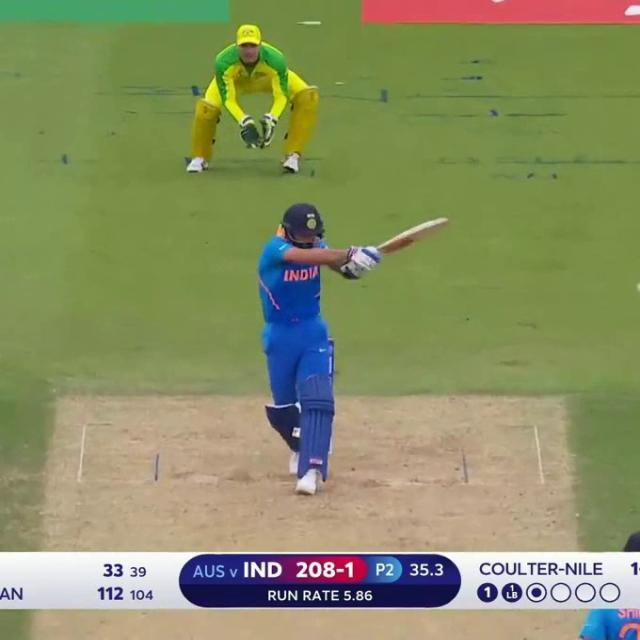bat: (366, 218, 454, 257)
